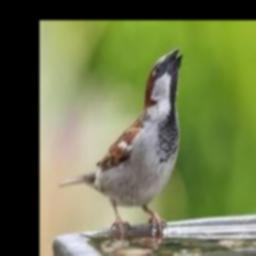Sparrow: (58, 48, 182, 239)
